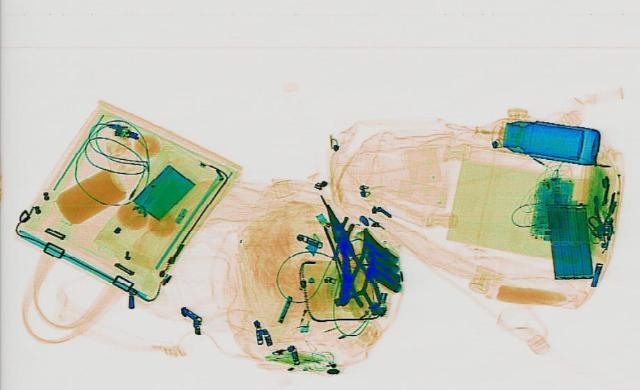Pliers: (309, 202, 386, 305)
